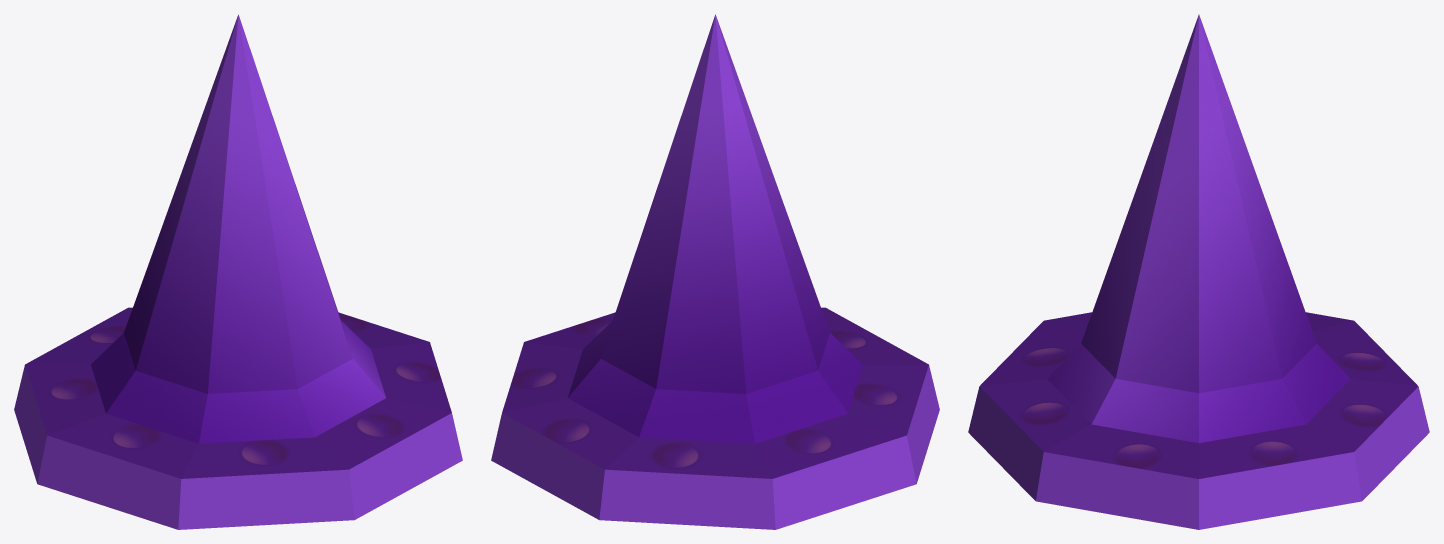
Rendered from Pika.fbx.
The picture shows the model from 3 angles, left to right: view 1: azimuth 30°, elevation 25°; view 2: azimuth 150°, elevation 25°; view 3: azimuth 270°, elevation 25°; orthographic projection.
Visible parts, largest first — view 1: Cylinder; view 2: Cylinder; view 3: Cylinder.
Part boxes in pixels (left/top/right/bottom): Cylinder: left=14, top=14, right=462, bottom=529; Cylinder: left=491, top=14, right=939, bottom=529; Cylinder: left=968, top=14, right=1429, bottom=529.
Size of the model in its own units: 200 by 200 by 200.
